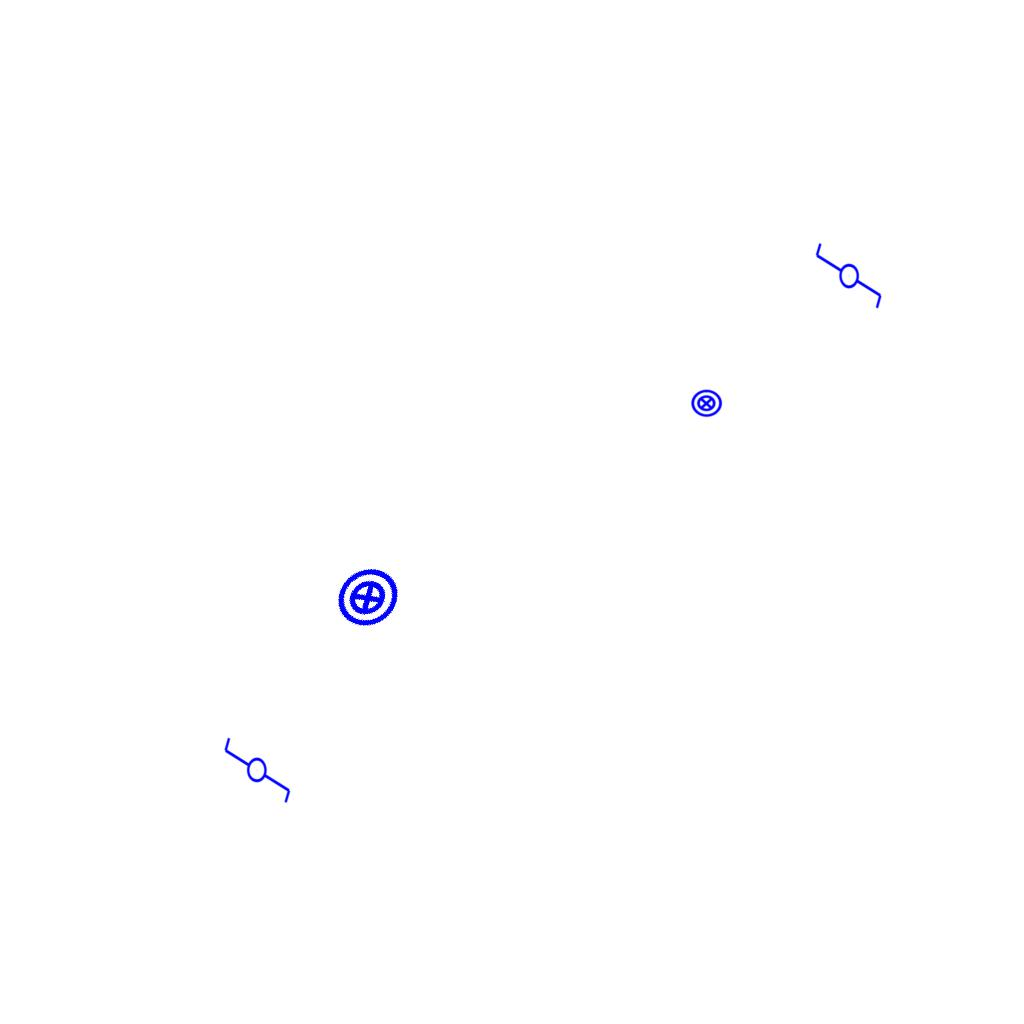Taster_beleuchtet: (322, 552, 414, 644), (690, 387, 723, 420)
Wechselschalter: (222, 727, 294, 805), (812, 241, 884, 319)
